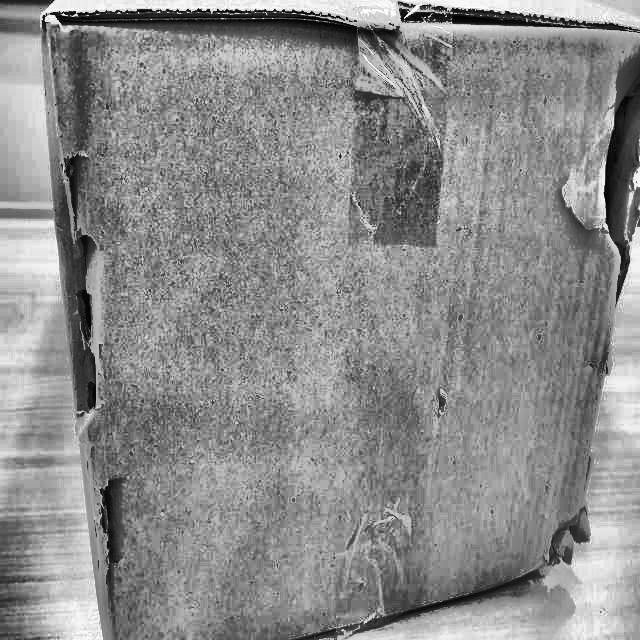box: (31, 0, 639, 639)
hole: (59, 164, 122, 554), (584, 33, 640, 268), (544, 508, 596, 567)
